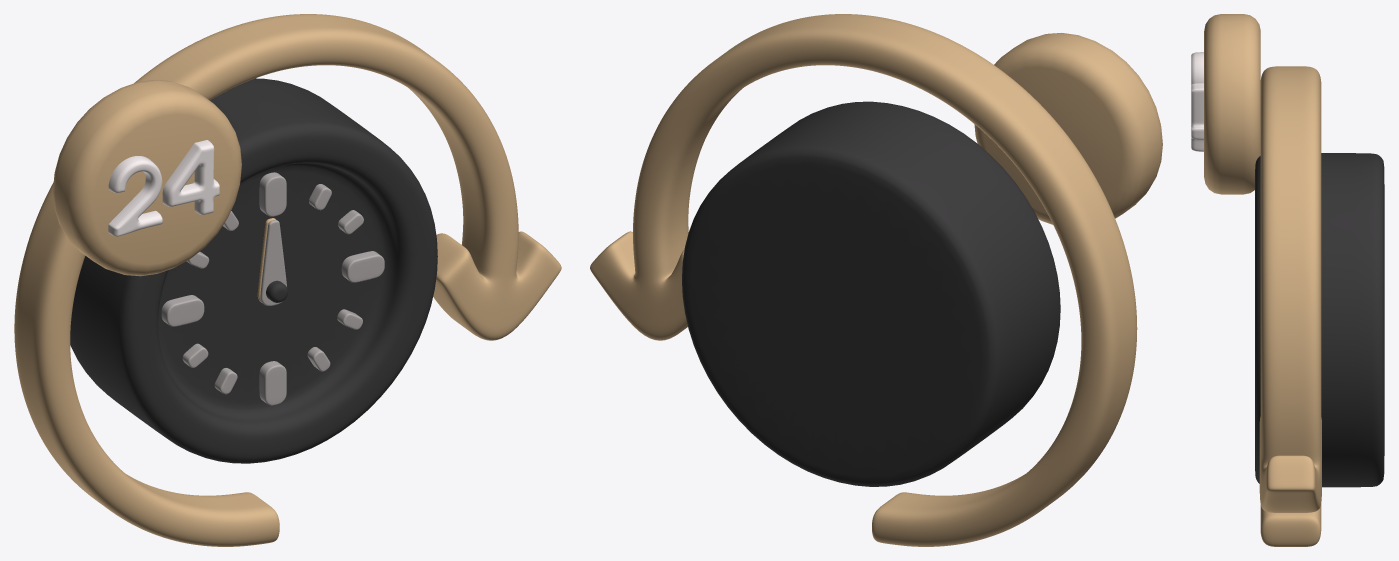
File: 24-hours-animated-3d-icon-1399161394015.glb
3 views of the same model, side by side, from view 1: azimuth 30°, elevation 25°; view 2: azimuth 150°, elevation 25°; view 3: azimuth 270°, elevation 25° (orthographic). The views are drawn at different scales.
Parts seen in each view (by area): view 1: Base.007, Cycle, Circle, Numbers A.006, Text 24, Minute Pin.012; view 2: Base.007, Cycle, Circle; view 3: Cycle, Base.007, Circle, Text 24.
Part boxes in pixels (<box>): Base.007: <box>70,78,437,463</box>; Cycle: <box>14,14,561,546</box>; Circle: <box>53,80,241,276</box>; Numbers A.006: <box>161,172,384,405</box>; Text 24: <box>108,140,219,236</box>; Minute Pin.012: <box>260,220,286,305</box>; Base.007: <box>682,101,1060,486</box>; Cycle: <box>590,14,1137,546</box>; Circle: <box>974,33,1162,224</box>; Cycle: <box>1259,66,1321,546</box>; Base.007: <box>1255,153,1384,487</box>; Circle: <box>1204,14,1260,194</box>; Text 24: <box>1191,52,1203,151</box>.
Size of the model in its own units: 3.28 by 3.01 by 1.15.
